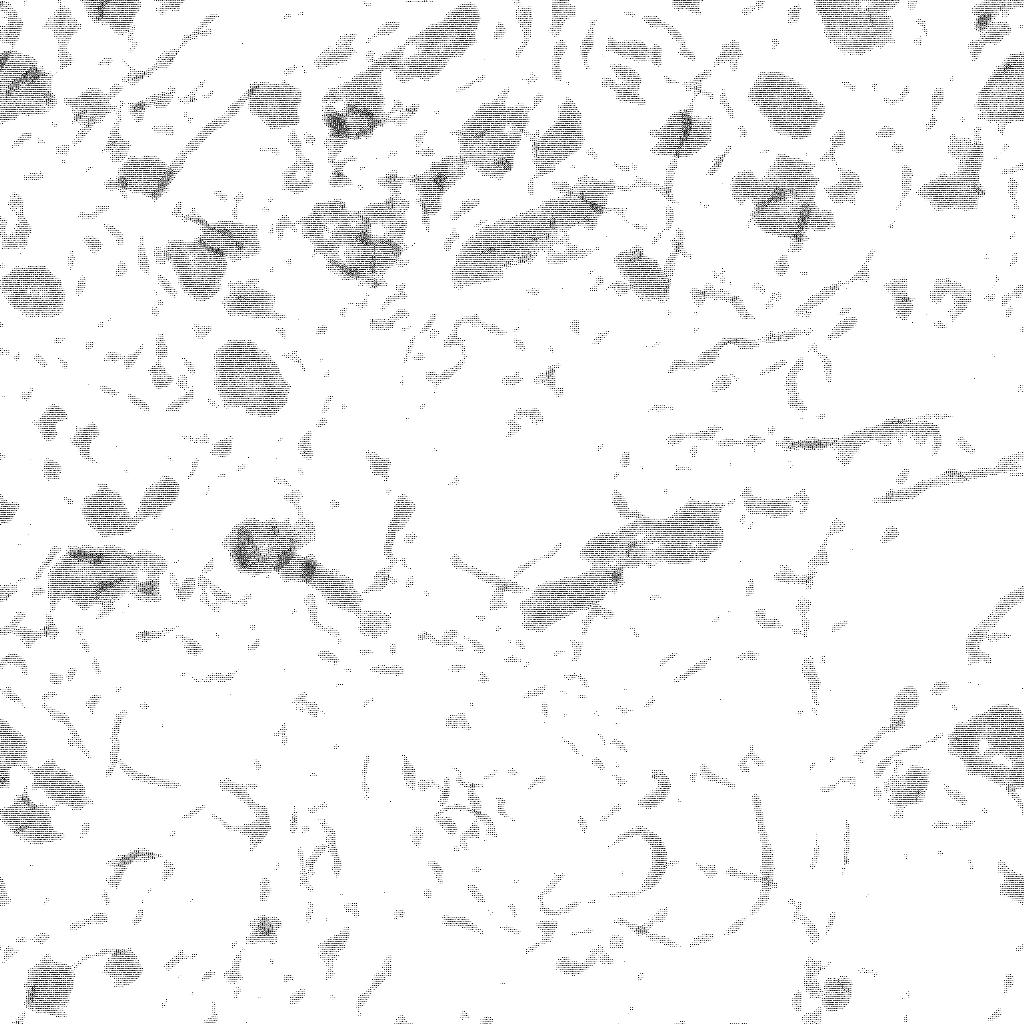axone: (439, 170, 620, 308), (573, 497, 738, 569), (298, 190, 417, 288), (731, 151, 835, 247), (511, 554, 631, 628), (204, 332, 295, 423), (389, 4, 492, 83), (744, 63, 833, 147), (40, 545, 138, 616), (220, 511, 320, 577), (457, 92, 529, 182), (318, 66, 395, 146), (152, 236, 237, 306), (522, 97, 594, 179), (1, 785, 75, 853), (18, 944, 81, 1021), (607, 242, 677, 310), (1, 259, 72, 324), (912, 166, 997, 220), (24, 756, 100, 814), (645, 109, 717, 165), (108, 149, 181, 204), (409, 151, 467, 219), (79, 477, 137, 542), (191, 214, 268, 262), (215, 276, 291, 323), (248, 79, 307, 134), (64, 82, 117, 136), (102, 944, 149, 990)
